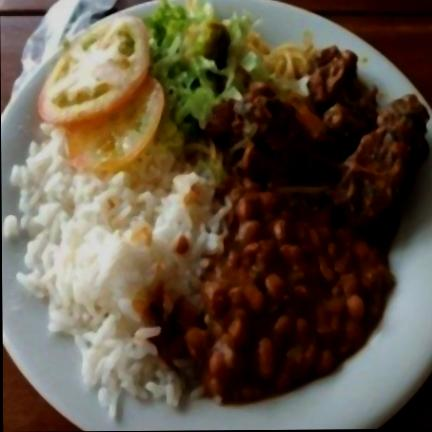beans: (177, 185, 392, 402)
meat: (193, 46, 429, 259)
rice: (3, 120, 224, 422)
salad: (123, 0, 299, 150)
tomato: (33, 15, 167, 175)
